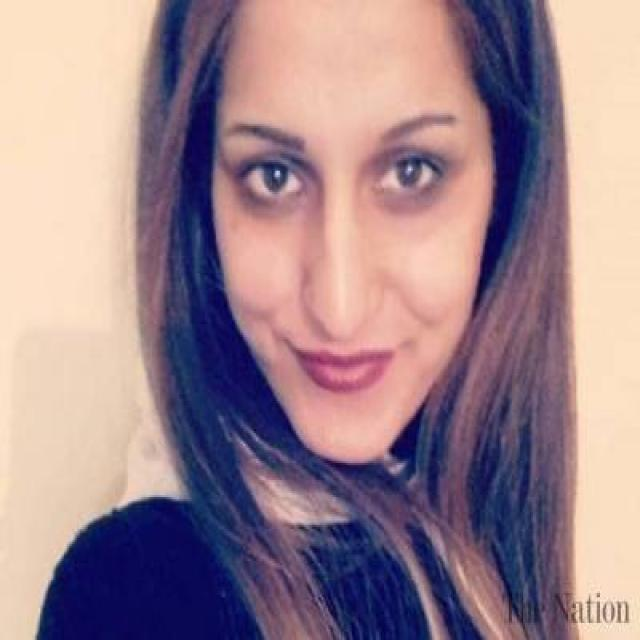mobile_phonerotation: (24, 0, 595, 638)
